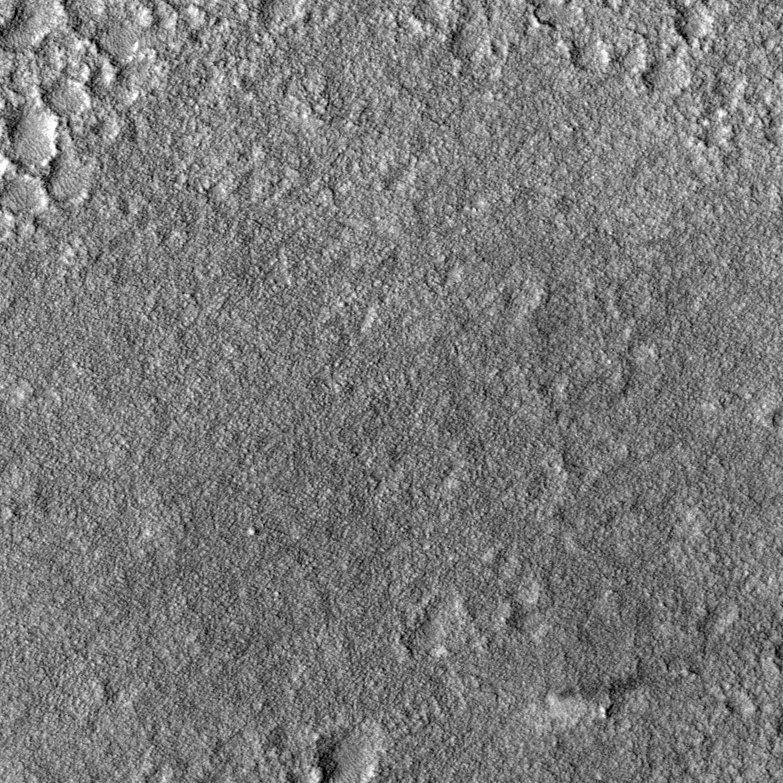dust_devil: (542, 672, 638, 709)
